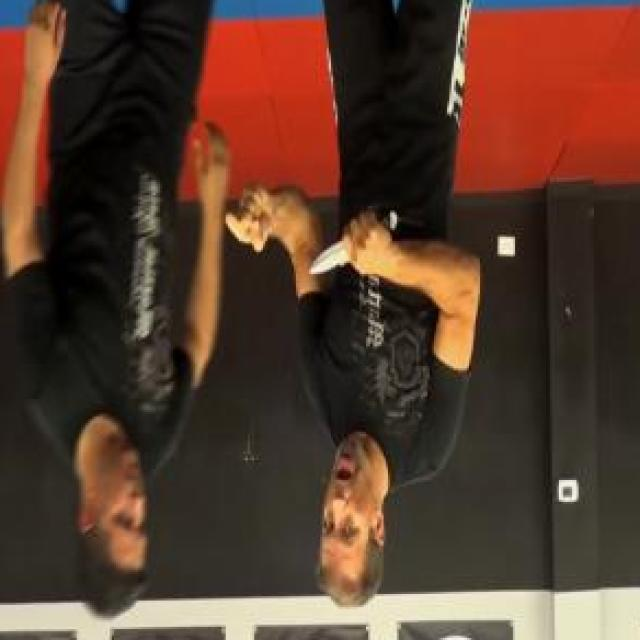knife: (302, 199, 400, 285)
